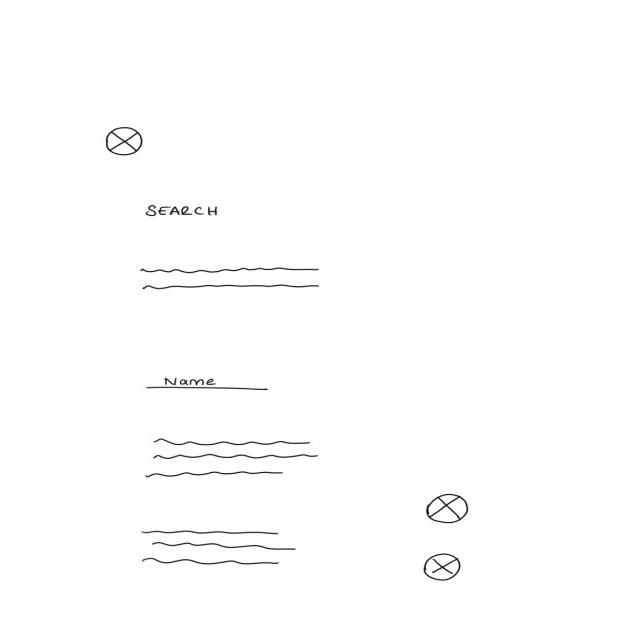image: (427, 494, 472, 525), (106, 127, 144, 157), (425, 554, 463, 583)
input: (146, 377, 271, 394)
label: (145, 205, 222, 219)
textbox: (145, 439, 321, 481), (139, 528, 299, 569), (139, 267, 323, 292)
